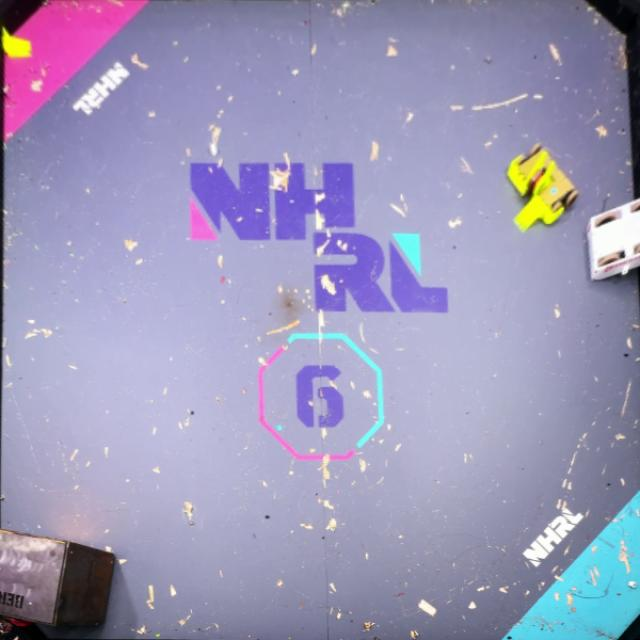housebot: (0, 528, 114, 640)
robot: (507, 142, 578, 232), (587, 196, 640, 282)
